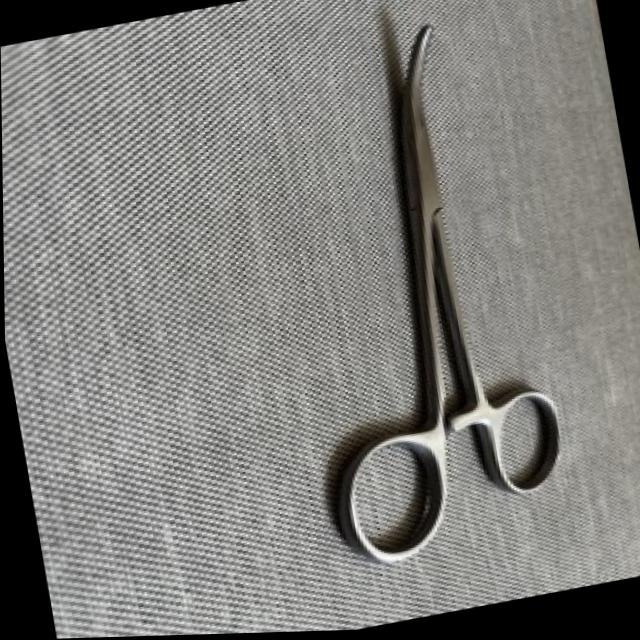scissor: (243, 0, 587, 587)
